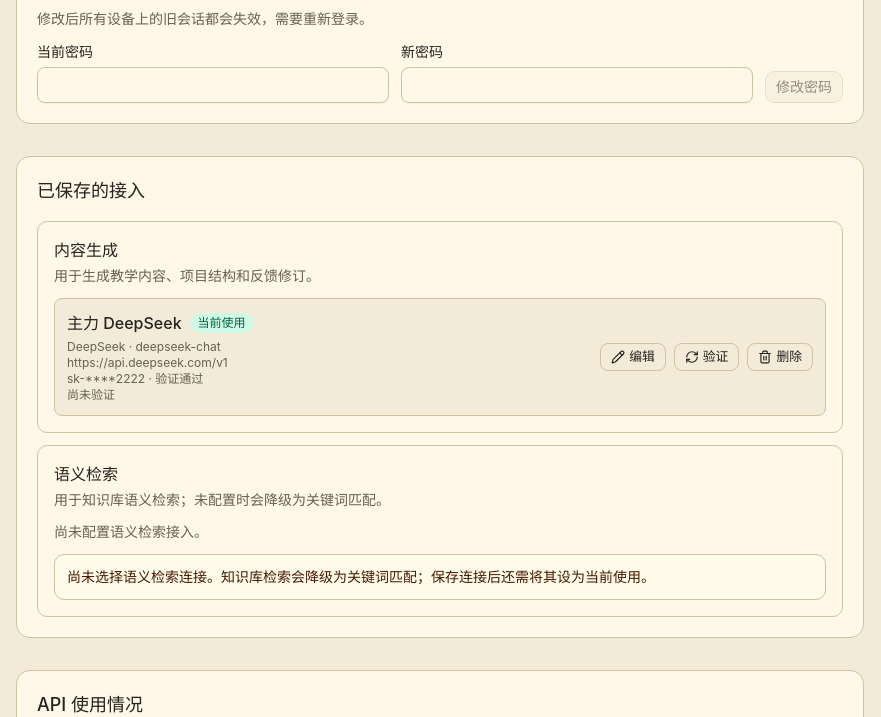
Test: hides revoked credentials and removes a credential after revoke succeeds
(page scrolled)
Expected: the text "sk-****2222 · 验证通过" is shown, [67,371,203,386]
What coordinates should you click on to do the following:
click the button "删除"
I would click on:
 (780, 357)
Its box is [747,343,813,371].
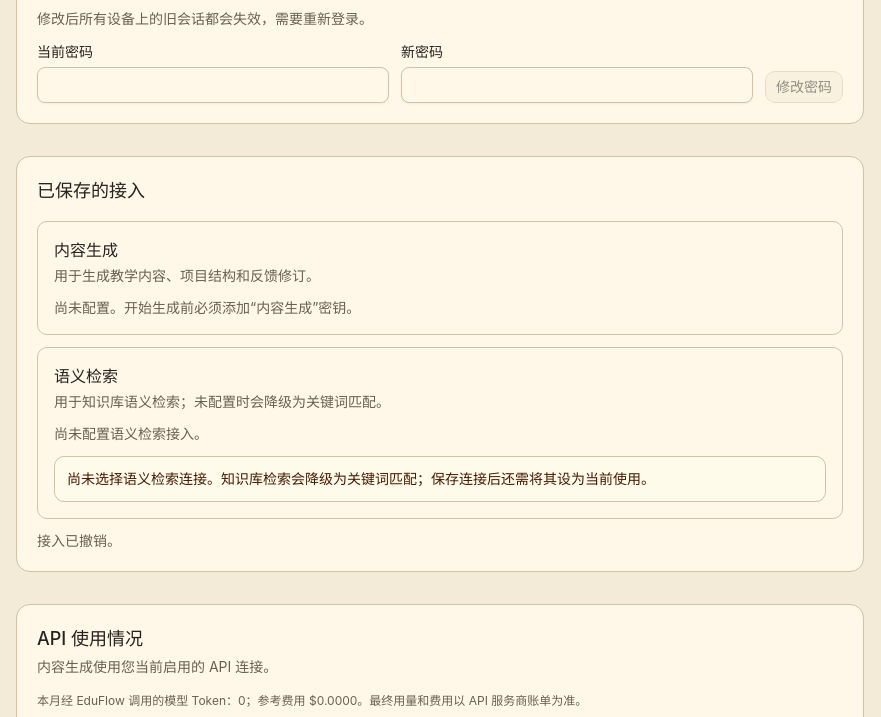
Now the text "接入已撤销。" is shown, box [37,532,121,549]
Now the text "sk-****2222" is gone
Now the text "尚未配置。开始生成前必须添加“内容生成”密钥。" is shown, box [54,299,360,316]
